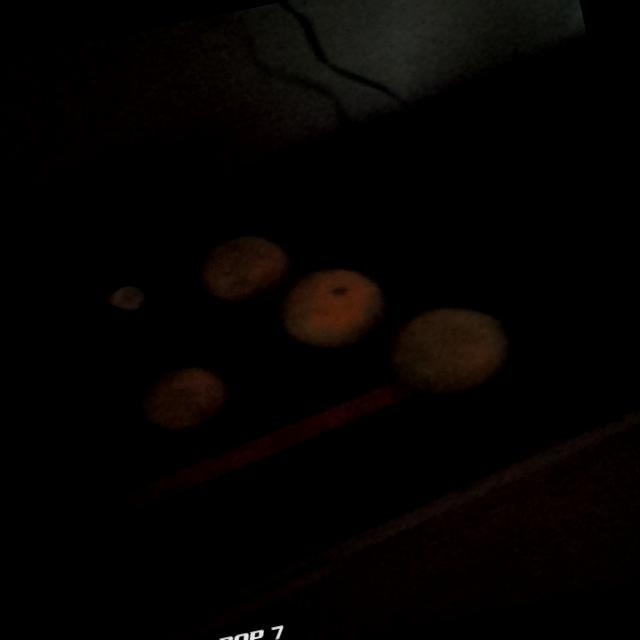agrume: (383, 293, 521, 403), (283, 255, 392, 368), (129, 363, 229, 445), (202, 233, 292, 310)
